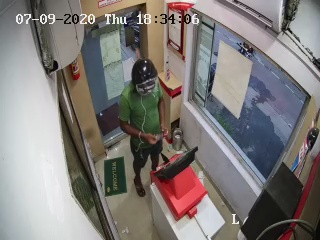helmet: (127, 57, 164, 100)
